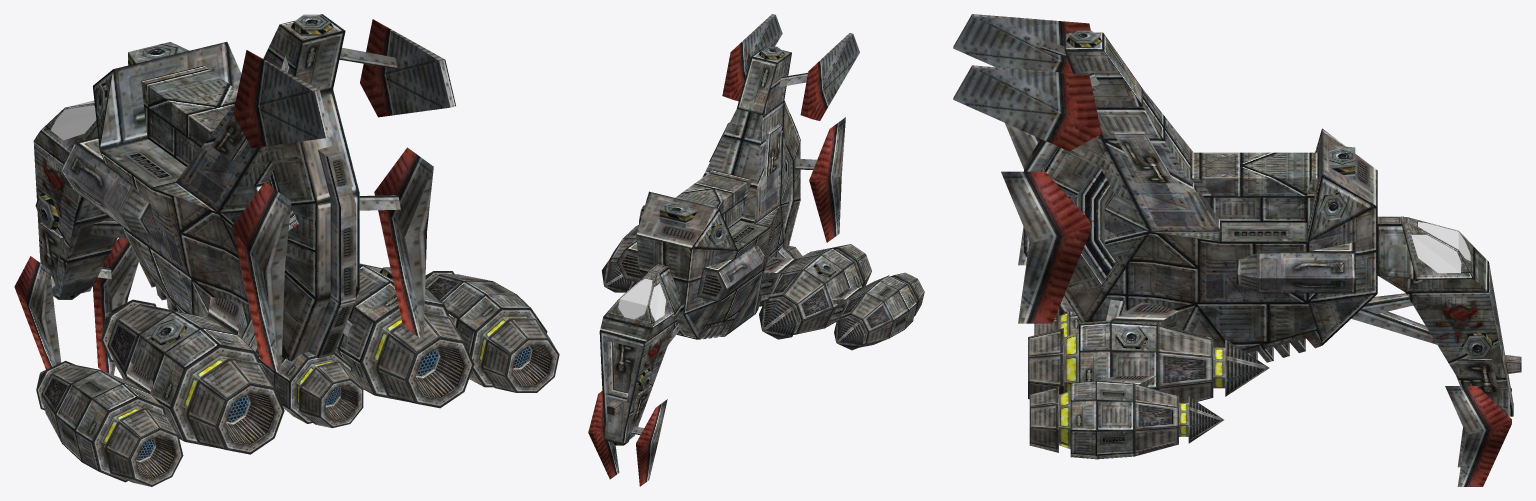
The model's file is Z-4007 Dragonhound.fbx.
3 views of the same model, side by side, from view 1: azimuth 30°, elevation 25°; view 2: azimuth 150°, elevation 25°; view 3: azimuth 270°, elevation 25° (orthographic). The views are drawn at different scales.
Parts seen in each view (by area): view 1: Dragonhound_hull3, Dragonhound_hull2, Dragonhound_hull1, Dragonhound_grill, Dragonhound_glass; view 2: Dragonhound_hull2, Dragonhound_hull3, Dragonhound_hull1, Dragonhound_glass; view 3: Dragonhound_hull2, Dragonhound_hull3, Dragonhound_hull1, Dragonhound_glass.
Part boxes in pixels (x1=…): Dragonhound_hull3: x1=14, y1=14, x2=559, y2=486; Dragonhound_hull2: x1=33, y1=24, x2=530, y2=471; Dragonhound_hull1: x1=39, y1=14, x2=516, y2=461; Dragonhound_grill: x1=136, y1=346, x2=530, y2=460; Dragonhound_glass: x1=50, y1=100, x2=96, y2=140; Dragonhound_hull2: x1=599, y1=53, x2=916, y2=444; Dragonhound_hull3: x1=588, y1=14, x2=924, y2=486; Dragonhound_hull1: x1=599, y1=46, x2=916, y2=444; Dragonhound_glass: x1=618, y1=278, x2=665, y2=321; Dragonhound_hull2: x1=1044, y1=50, x2=1513, y2=459; Dragonhound_hull3: x1=953, y1=14, x2=1521, y2=486; Dragonhound_hull1: x1=1024, y1=32, x2=1513, y2=459; Dragonhound_glass: x1=1411, y1=222, x2=1470, y2=272.
Size of the model in its own units: 238 by 261 by 305.
4 materials, 4 textured.
